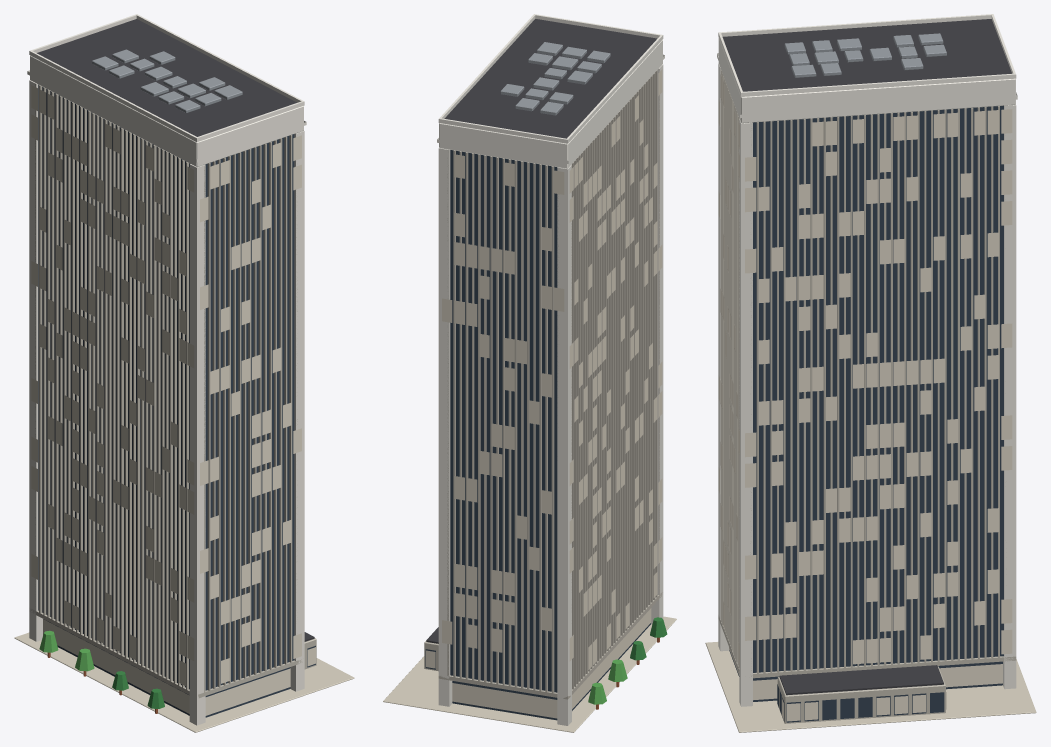
The model's file is 50-california-street.glb.
The picture shows the model from 3 angles, left to right: view 1: azimuth 30°, elevation 25°; view 2: azimuth 150°, elevation 25°; view 3: azimuth 270°, elevation 25°; orthographic projection. The views are drawn at different scales.
Visible parts, largest first — view 1: 50-california-street_body, 50-california-street_night_glow; view 2: 50-california-street_body, 50-california-street_night_glow; view 3: 50-california-street_body, 50-california-street_night_glow.
Boxes of the visible parts, x1,y1,x2,y2 form: 50-california-street_body: (14,14,354,732); 50-california-street_night_glow: (27,70,315,715); 50-california-street_body: (383,14,676,732); 50-california-street_night_glow: (426,54,664,718); 50-california-street_body: (705,14,1036,732); 50-california-street_night_glow: (717,53,1017,721).
Size of the model in its own units: 57.09 by 148 by 72.39.
